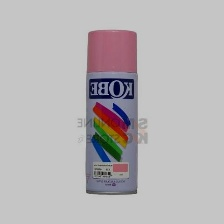aerosol_cans: (82, 25, 143, 196)
